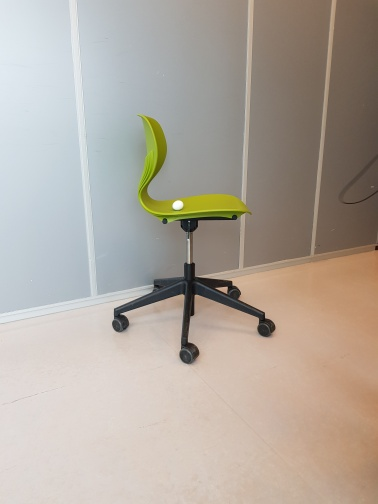egg: (169, 199, 185, 211)
